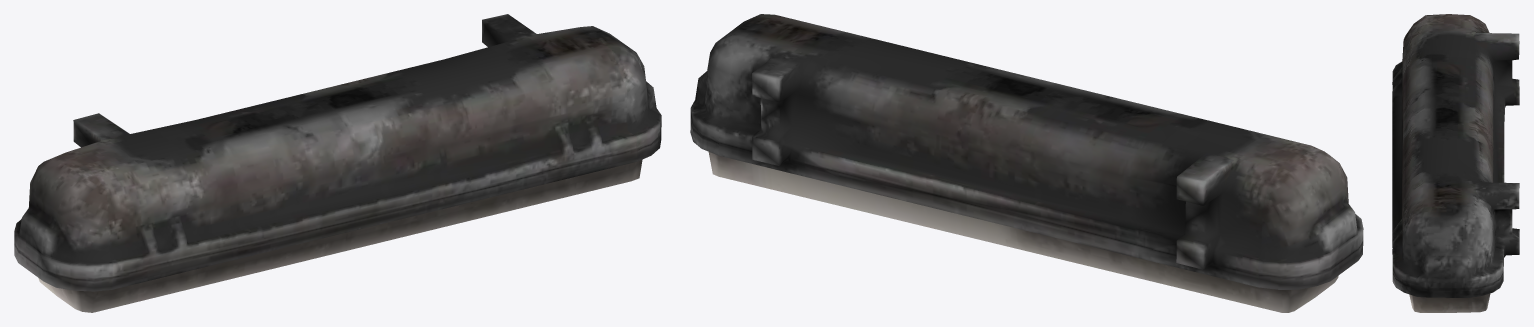
The model's file is train_tunnel_light_cold.glb.
3 renders of one model, left to right at view 1: azimuth 30°, elevation 25°; view 2: azimuth 150°, elevation 25°; view 3: azimuth 270°, elevation 25°, orthographic. The views are drawn at different scales.
Visible parts, largest first — view 1: FluorescentLight_LOD0; view 2: FluorescentLight_LOD0; view 3: FluorescentLight_LOD0.
Boxes of the visible parts, x1,y1,x2,y2 form: FluorescentLight_LOD0: [14, 14, 661, 312]; FluorescentLight_LOD0: [690, 14, 1363, 312]; FluorescentLight_LOD0: [1392, 14, 1519, 312].
Size of the model in its own units: 1.24 by 0.2573 by 0.2976.
1 material, 1 textured.
